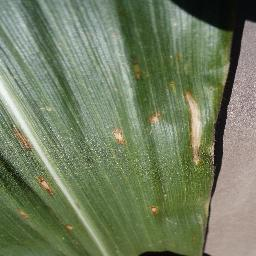Gray_Leaf_Spot: (180, 78, 219, 173), (199, 176, 218, 225), (7, 124, 30, 160), (152, 49, 188, 69), (126, 53, 144, 83), (141, 106, 164, 129), (106, 121, 127, 146), (34, 176, 53, 198), (139, 198, 162, 216), (14, 205, 32, 224), (58, 219, 78, 236), (163, 76, 175, 93)
